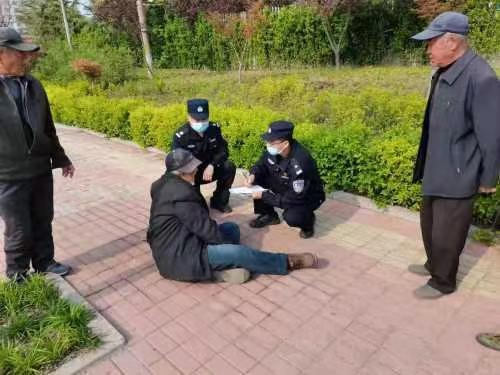bending: (148, 147, 316, 287), (241, 121, 328, 235), (171, 100, 240, 222)
up: (411, 13, 493, 299), (1, 25, 76, 281)
